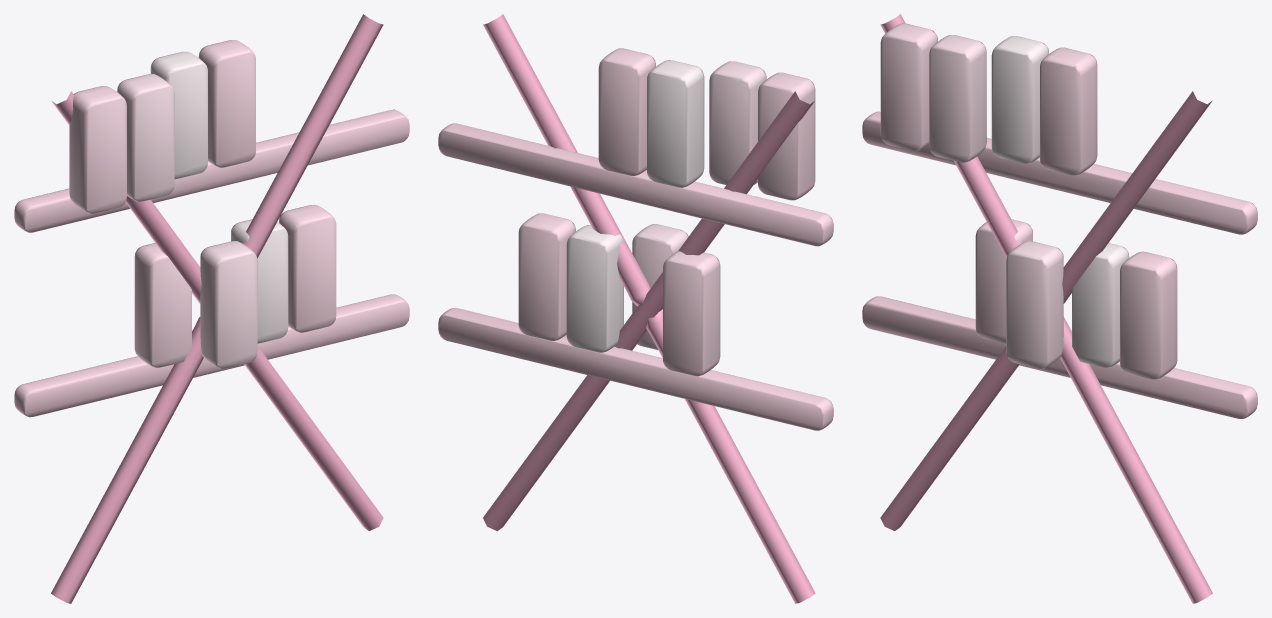
The model's file is decor_4_candy.glb.
The picture shows the model from 3 angles, left to right: view 1: azimuth 30°, elevation 25°; view 2: azimuth 150°, elevation 25°; view 3: azimuth 330°, elevation 25°; orthographic projection.
Visible parts, largest first — view 1: decor_4_candy; view 2: decor_4_candy; view 3: decor_4_candy.
Boxes of the visible parts, x1,y1,x2,y2 form: decor_4_candy: (14, 14, 409, 603); decor_4_candy: (438, 14, 833, 603); decor_4_candy: (862, 14, 1257, 603).
Size of the model in its own units: 9.65 by 12.24 by 1.5.
